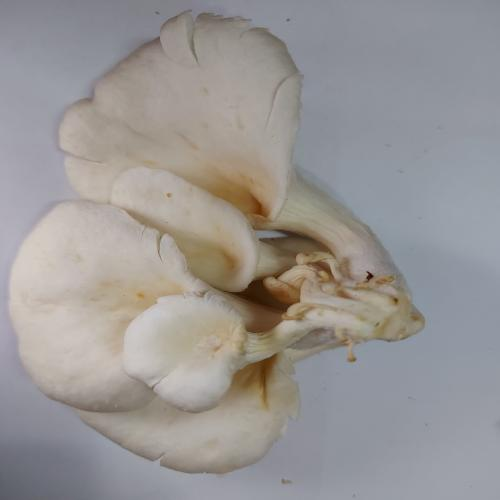Oyster Mushroom: (8, 9, 426, 475)
